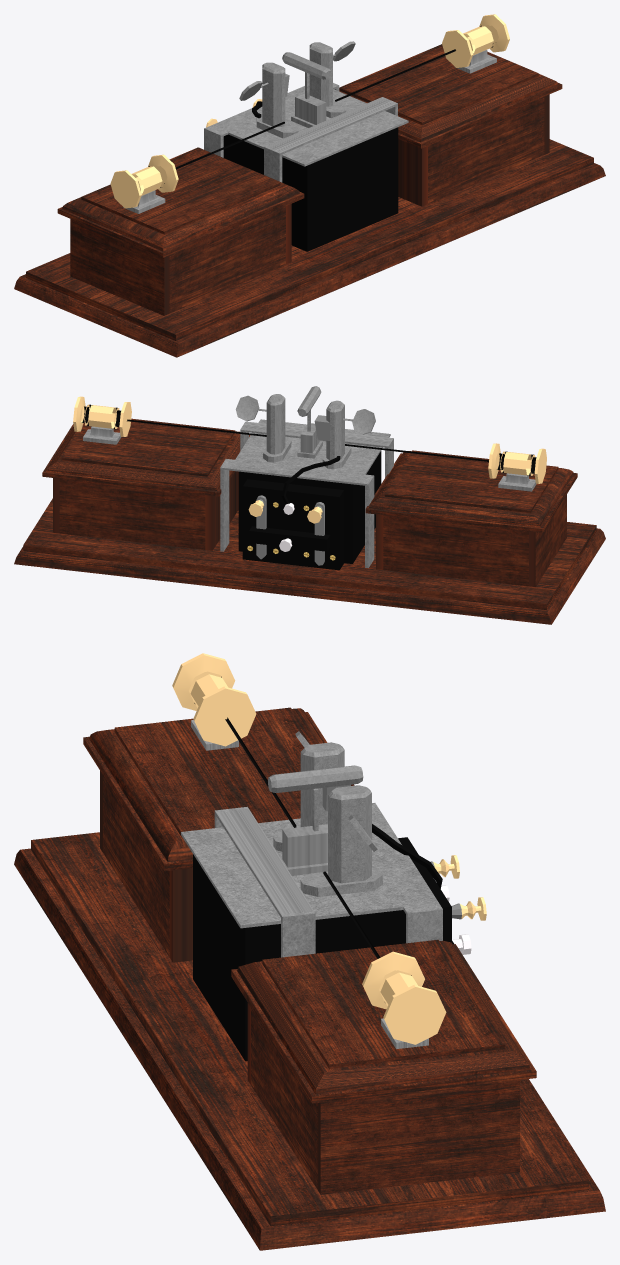
File: invention-radio.glb
3 renders of one model, top to bottom at view 1: azimuth 30°, elevation 25°; view 2: azimuth 150°, elevation 25°; view 3: azimuth 270°, elevation 25°, orthographic. The views are drawn at different scales.
Visible parts, largest first — view 1: objects; view 2: objects; view 3: objects.
Part boxes in pixels (bbox=[...]): objects: bbox=[14, 14, 605, 357]; objects: bbox=[14, 386, 605, 624]; objects: bbox=[14, 653, 605, 1250].
Bounding box in the file's own units: 2.23 × 0.6501 × 1.31.
Materials: 6 (3 with a texture image).
